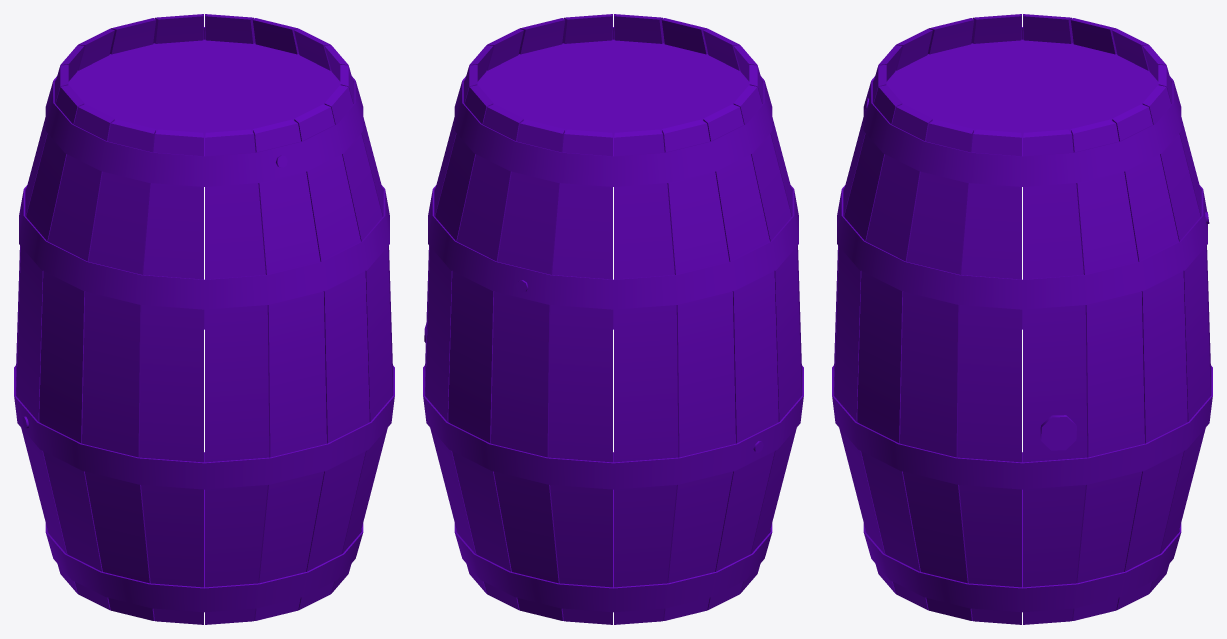
The model's file is barrel3_low.fbx.
3 renders of one model, left to right at view 1: azimuth 30°, elevation 25°; view 2: azimuth 150°, elevation 25°; view 3: azimuth 270°, elevation 25°, orthographic.
Visible parts, largest first — view 1: planches3_low, metal3_low, couvercle3_low; view 2: planches3_low, metal3_low, couvercle3_low; view 3: planches3_low, metal3_low, couvercle3_low.
Boxes of the visible parts, x1,y1,x2,y2 form: planches3_low: (16, 14, 392, 624); metal3_low: (14, 27, 394, 612); couvercle3_low: (68, 39, 340, 587); planches3_low: (425, 14, 801, 624); metal3_low: (423, 27, 803, 612); couvercle3_low: (477, 39, 749, 587); planches3_low: (834, 14, 1210, 624); metal3_low: (832, 27, 1212, 612); couvercle3_low: (886, 39, 1158, 587).
Size of the model in its own units: 59.97 by 84.12 by 59.06.
